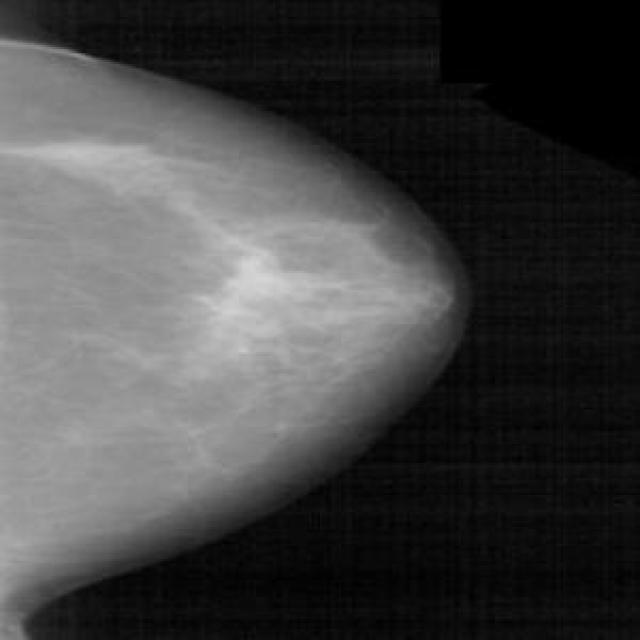tumor: (202, 228, 450, 358), (22, 105, 186, 218)
